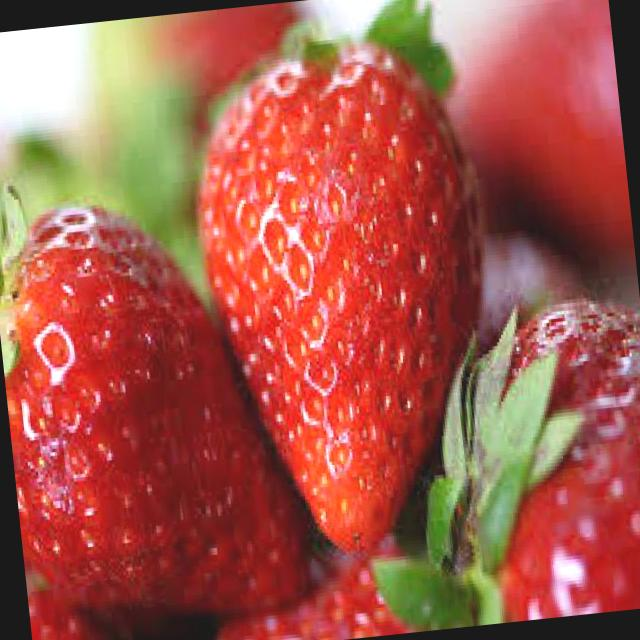Strawberry: (186, 35, 512, 572), (0, 182, 312, 629), (446, 297, 640, 623), (204, 533, 412, 640), (24, 560, 132, 640)
